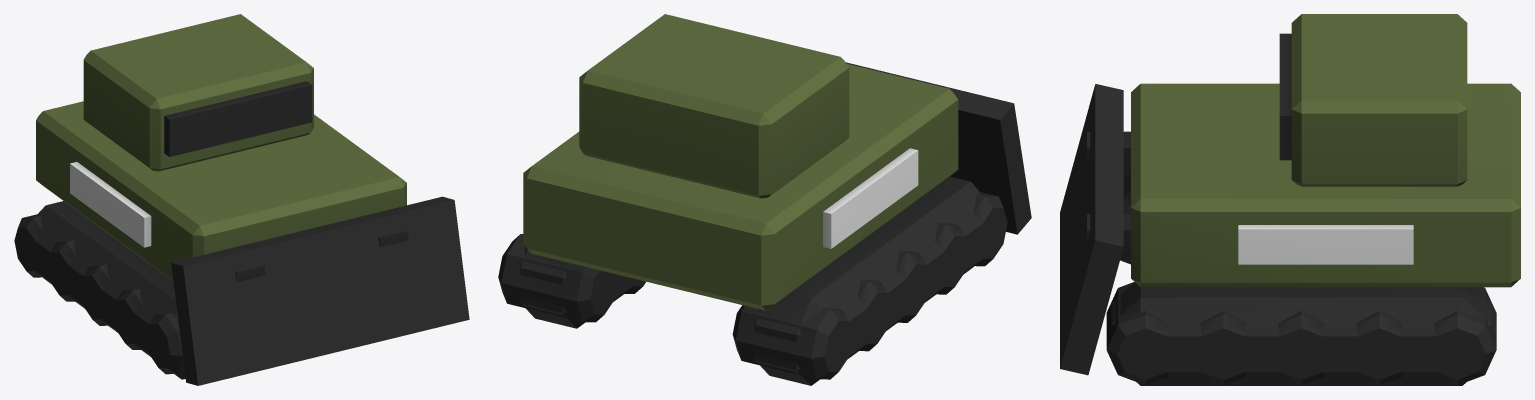
File: ua-dozer.glb
3 renders of one model, left to right at view 1: azimuth 30°, elevation 25°; view 2: azimuth 150°, elevation 25°; view 3: azimuth 270°, elevation 25°, orthographic. The views are drawn at different scales.
Parts seen in each view (by area): view 1: ua-dozer; view 2: ua-dozer; view 3: ua-dozer.
Boxes of the visible parts, x1,y1,x2,y2 form: ua-dozer: [14, 14, 469, 385]; ua-dozer: [498, 14, 1031, 385]; ua-dozer: [1060, 14, 1520, 385].
Size of the model in its own units: 0.78 by 0.59 by 0.9454.
